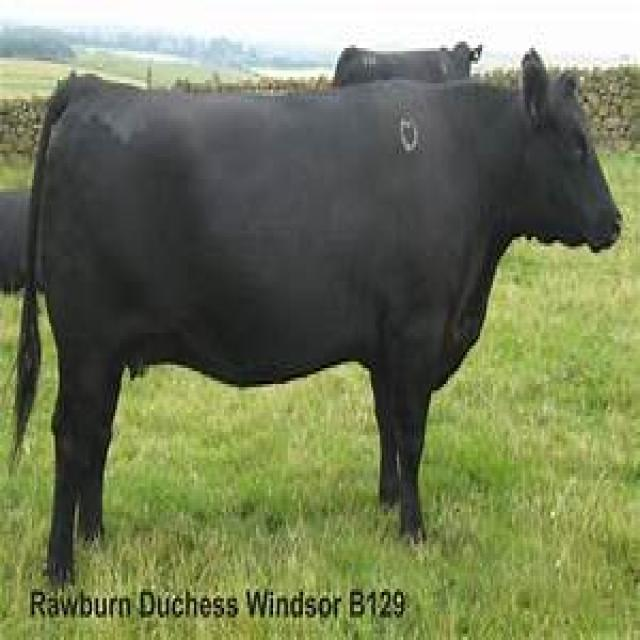cow: (32, 60, 623, 584), (331, 39, 485, 103)
